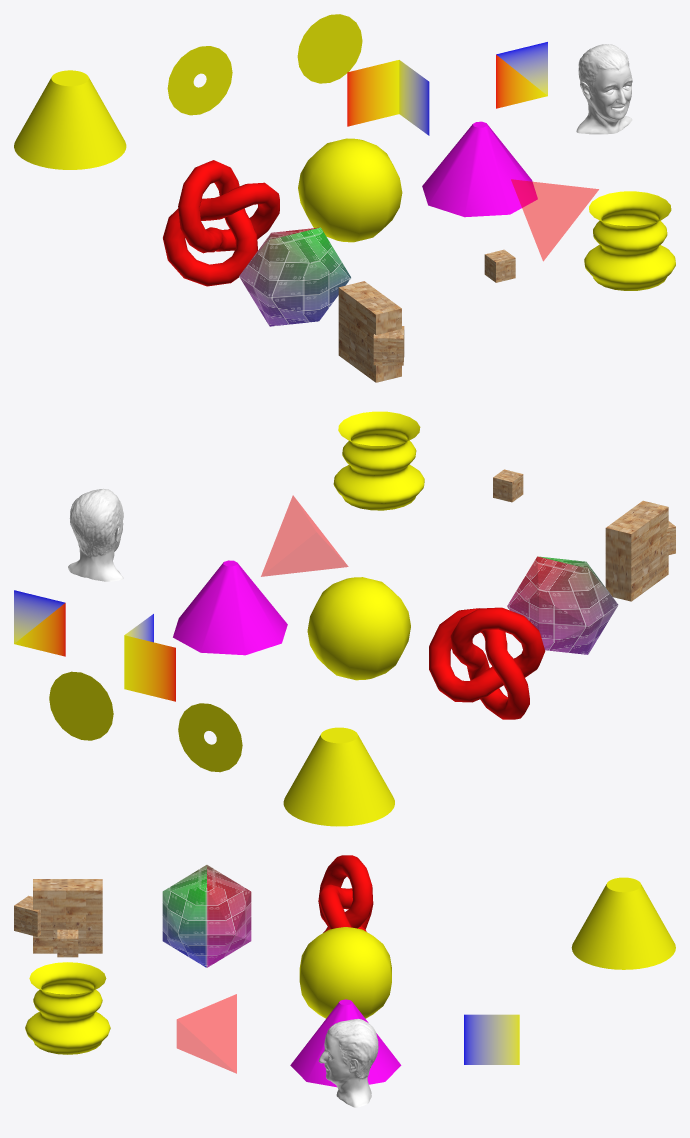
The picture shows the model from 3 angles, top to bottom: view 1: azimuth 30°, elevation 25°; view 2: azimuth 150°, elevation 25°; view 3: azimuth 270°, elevation 25°; orthographic projection. The views are drawn at different scales.
Parts seen in each view (by area): view 1: Cylinder (×2), Sphere, Icosahedron, object 13, object 14, Custom buffered, Cube, Mesh_Mesh_head_geo.001_lambert2SG.001, Tetrahedron, object 11, object 12, Custom buffered truncated (+2 smaller); view 2: Cylinder (×2), Sphere, object 13, object 14, Icosahedron, Cube, Mesh_Mesh_head_geo.001_lambert2SG.001, Tetrahedron, object 11, object 12, Custom buffered, Custom buffered truncated (+1 smaller); view 3: Icosahedron, Sphere, object 13, object 14, Cylinder (×2), Cube, Mesh_Mesh_head_geo.001_lambert2SG.001, Tetrahedron, Custom buffered, SubCube, Cube in group.
Boxes of the visible parts, bbox=[...] form: Cylinder (×2): bbox=[163, 121, 537, 286]; Sphere: bbox=[298, 138, 402, 242]; Icosahedron: bbox=[239, 227, 351, 326]; object 13: bbox=[14, 70, 126, 169]; object 14: bbox=[584, 191, 675, 290]; Custom buffered: bbox=[347, 60, 429, 135]; Cube: bbox=[338, 281, 401, 382]; Mesh_Mesh_head_geo.001_lambert2SG.001: bbox=[576, 44, 632, 134]; Tetrahedron: bbox=[511, 179, 598, 261]; object 11: bbox=[297, 14, 362, 83]; object 12: bbox=[167, 46, 232, 115]; Custom buffered truncated: bbox=[496, 42, 547, 108]; Cylinder (×2): bbox=[173, 560, 545, 719]; Sphere: bbox=[307, 577, 410, 680]; object 13: bbox=[283, 727, 394, 826]; object 14: bbox=[333, 411, 424, 510]; Icosahedron: bbox=[507, 556, 618, 654]; Cube: bbox=[605, 500, 668, 601]; Mesh_Mesh_head_geo.001_lambert2SG.001: bbox=[68, 488, 123, 581]; Tetrahedron: bbox=[261, 495, 348, 576]; object 11: bbox=[49, 671, 113, 740]; object 12: bbox=[178, 703, 242, 772]; Custom buffered: bbox=[124, 614, 175, 701]; Custom buffered truncated: bbox=[14, 590, 65, 656]; Icosahedron: bbox=[162, 865, 251, 967]; Sphere: bbox=[299, 927, 391, 1018]; object 13: bbox=[571, 877, 675, 969]; object 14: bbox=[25, 962, 110, 1054]; Cylinder (×2): bbox=[290, 855, 401, 1087]; Cube: bbox=[33, 879, 102, 953]; Mesh_Mesh_head_geo.001_lambert2SG.001: bbox=[318, 1018, 378, 1107]; Tetrahedron: bbox=[176, 994, 236, 1073]; Custom buffered: bbox=[464, 1014, 519, 1064]; SubCube: bbox=[14, 895, 40, 936]; Cube in group: bbox=[57, 929, 78, 957].
Bounding box in the file's own units: 717 × 198 × 953.
10 materials, 2 textured.
